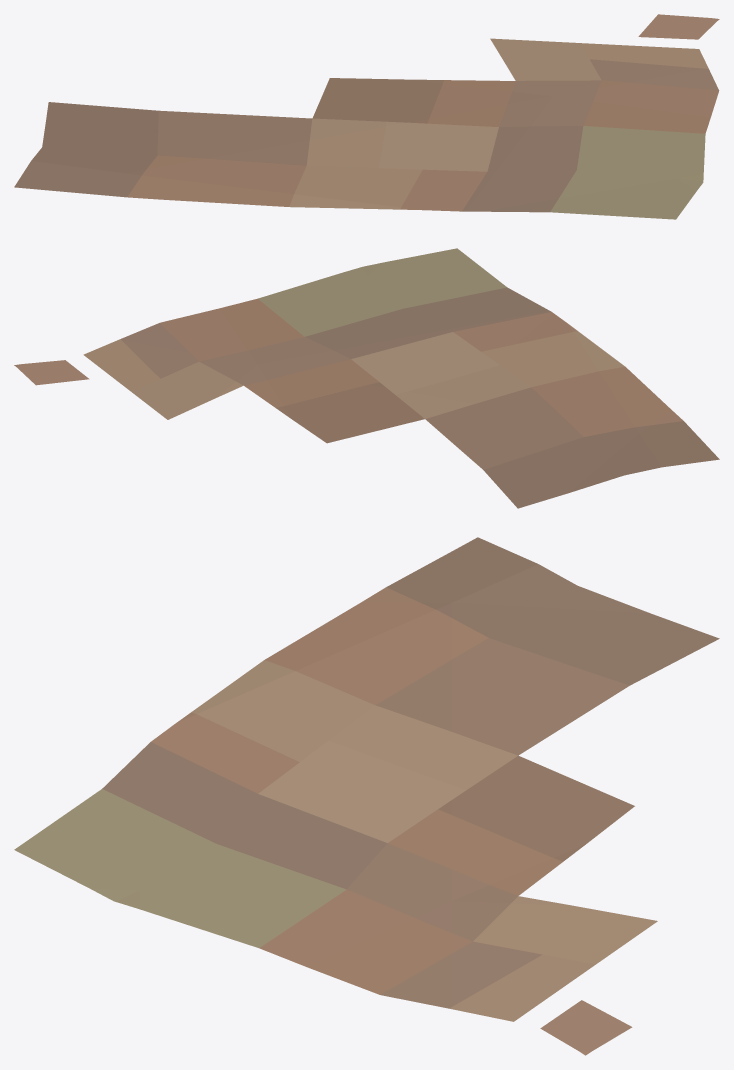
Rendered from farm_-5_14_soil.glb.
3 views of the same model, one above another, from view 1: azimuth 30°, elevation 25°; view 2: azimuth 150°, elevation 25°; view 3: azimuth 270°, elevation 25° (orthographic). The views are drawn at different scales.
Parts seen in each view (by area): view 1: geometry_0; view 2: geometry_0; view 3: geometry_0.
Boxes of the visible parts, box(x1,y1,x2,y2) form: geometry_0: box(14, 14, 719, 219); geometry_0: box(14, 248, 719, 508); geometry_0: box(14, 537, 719, 1055).
Bounding box in the file's own units: 280 × 16.28 × 181.
